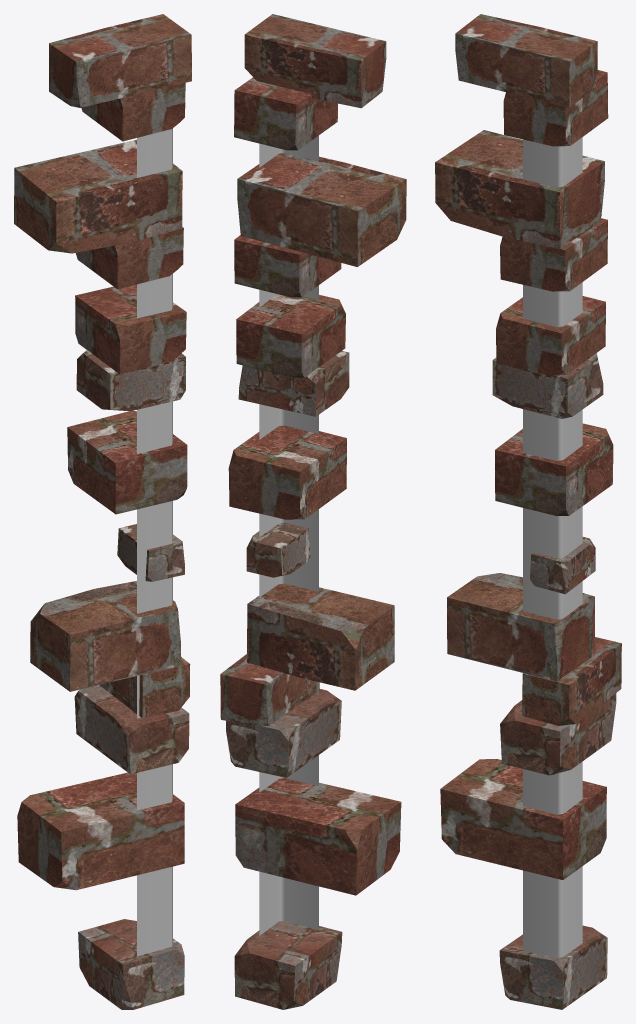
Rendered from SM_Wall_Corner_01.fbx.
3 views of the same model, side by side, from view 1: azimuth 30°, elevation 25°; view 2: azimuth 150°, elevation 25°; view 3: azimuth 330°, elevation 25° (orthographic).
Visible parts, largest first — view 1: SM_Wall_Corner_01_LOD0; view 2: SM_Wall_Corner_01_LOD0; view 3: SM_Wall_Corner_01_LOD0.
Part boxes in pixels (x1=…): SM_Wall_Corner_01_LOD0: x1=14, y1=14, x2=191, y2=1009; SM_Wall_Corner_01_LOD0: x1=220, y1=14, x2=406, y2=1009; SM_Wall_Corner_01_LOD0: x1=435, y1=14, x2=621, y2=1009.
Size of what is drawn, in the model's own units: 88.8 by 603 by 66.37.
